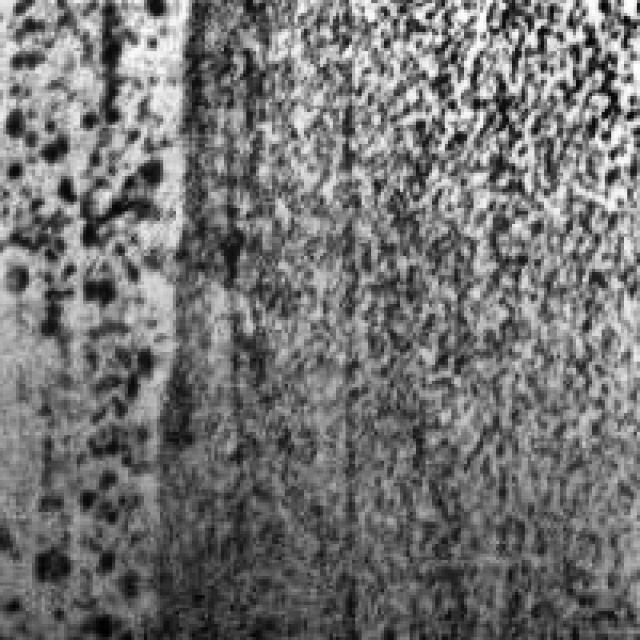Rolled_in_Scale: (218, 0, 636, 624), (0, 0, 160, 634)
